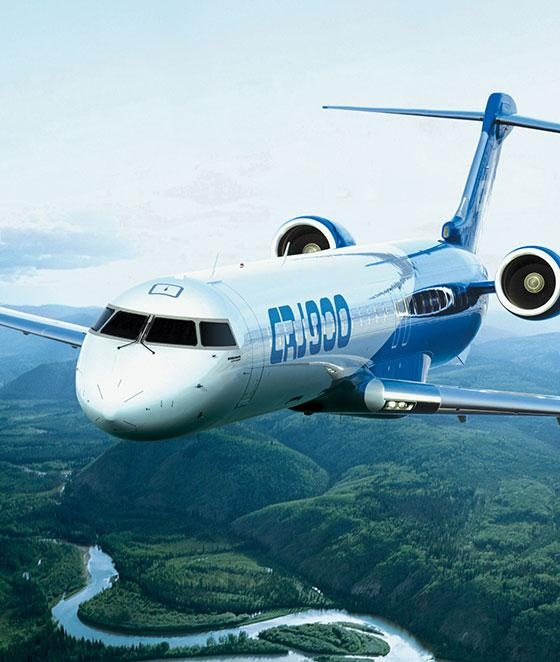airplane: (11, 91, 560, 445)
